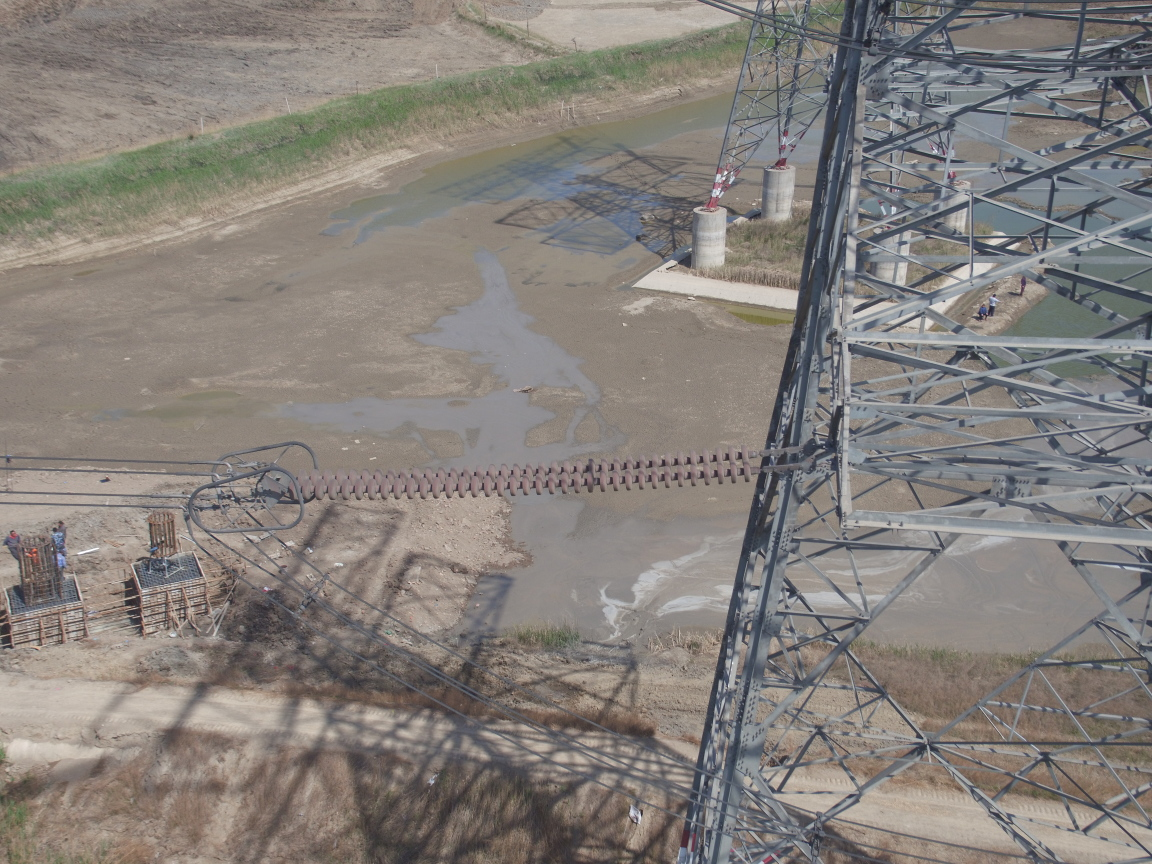insulator: (269, 443, 786, 506)
